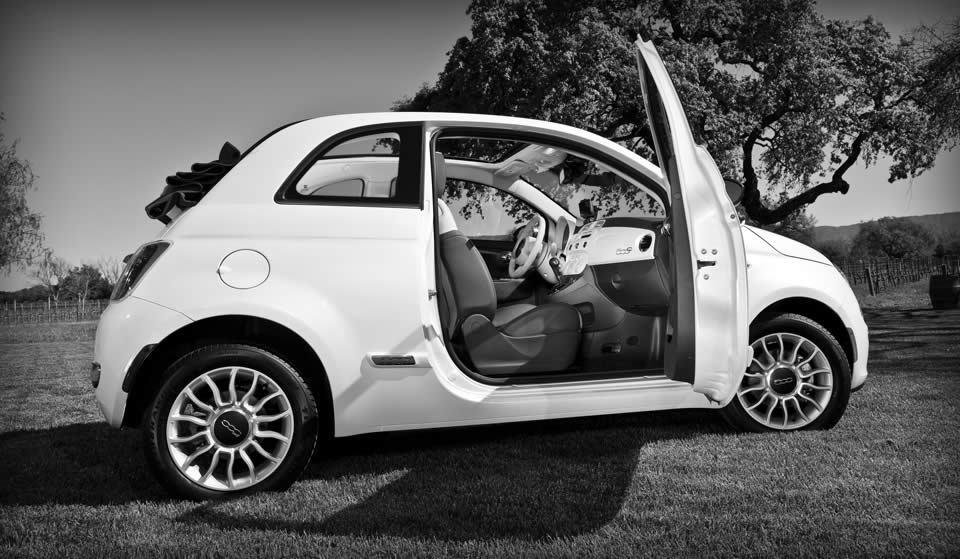car: (89, 42, 868, 504)
